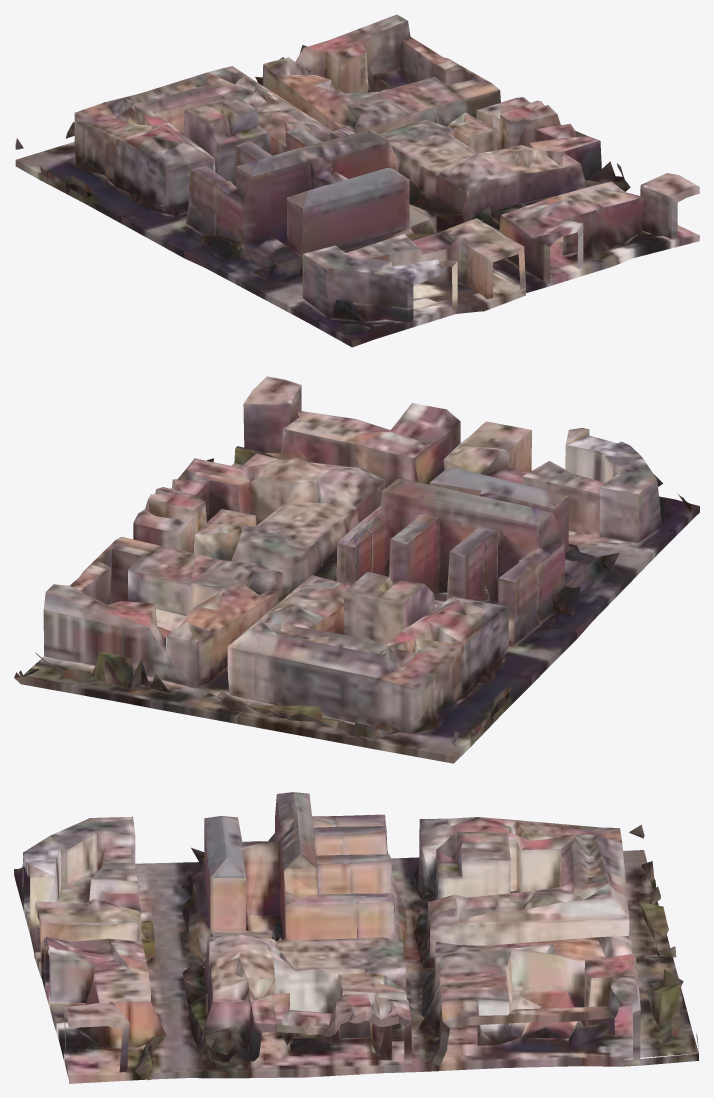
The picture shows the model from 3 angles, top to bottom: view 1: azimuth 30°, elevation 25°; view 2: azimuth 150°, elevation 25°; view 3: azimuth 270°, elevation 25°; orthographic projection. The views are drawn at different scales.
Visible parts, largest first — view 1: Mesh_0; view 2: Mesh_0; view 3: Mesh_0.
Boxes of the visible parts, x1,y1,x2,y2 form: Mesh_0: [15, 14, 699, 347]; Mesh_0: [14, 376, 699, 763]; Mesh_0: [14, 792, 698, 1083].
Size of the model in its own units: 267 by 60.72 by 330.
Materials: 1 (1 with a texture image).
